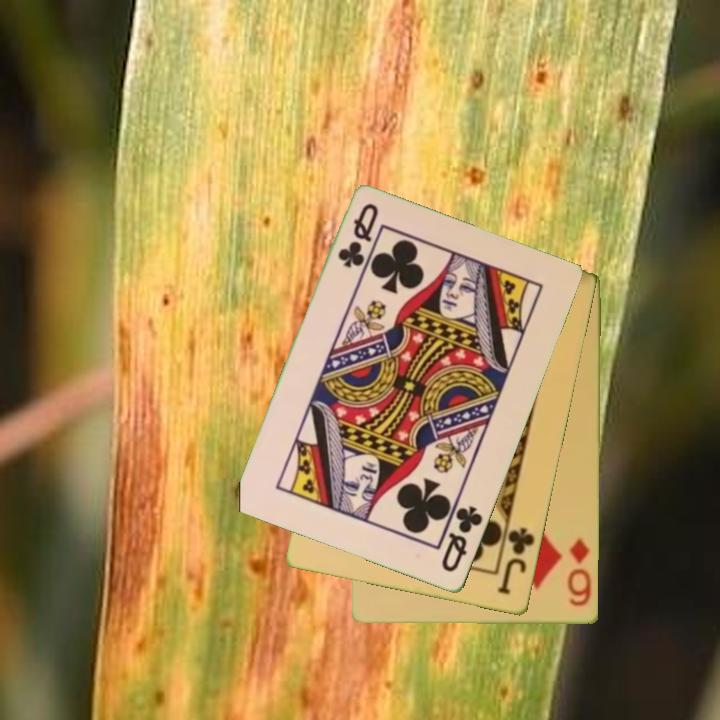6d: (565, 535, 595, 610)
Jc: (494, 524, 538, 598)
Qc: (438, 502, 486, 576), (334, 200, 382, 272)
